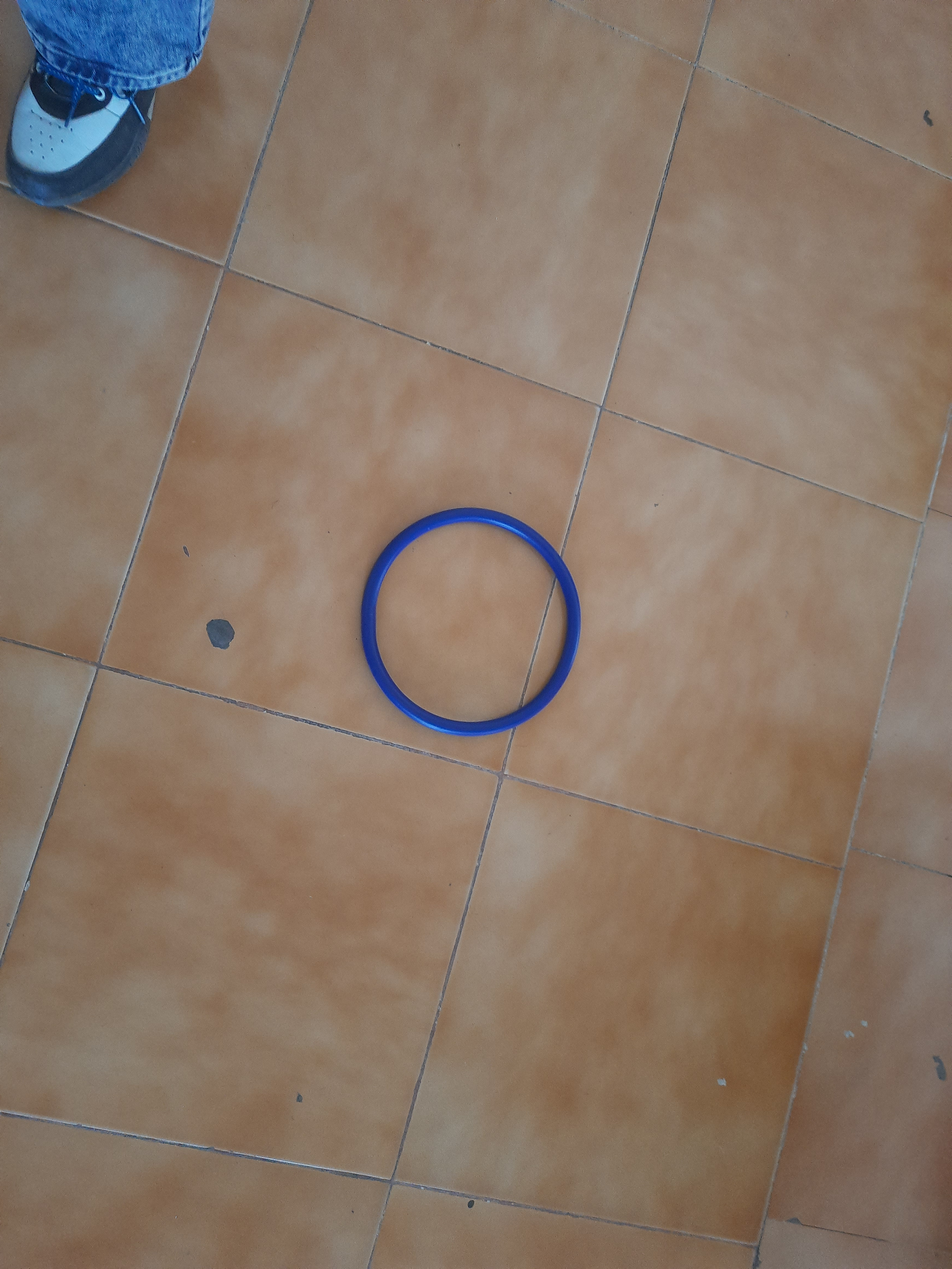Blue ring: (359, 506, 585, 735)
